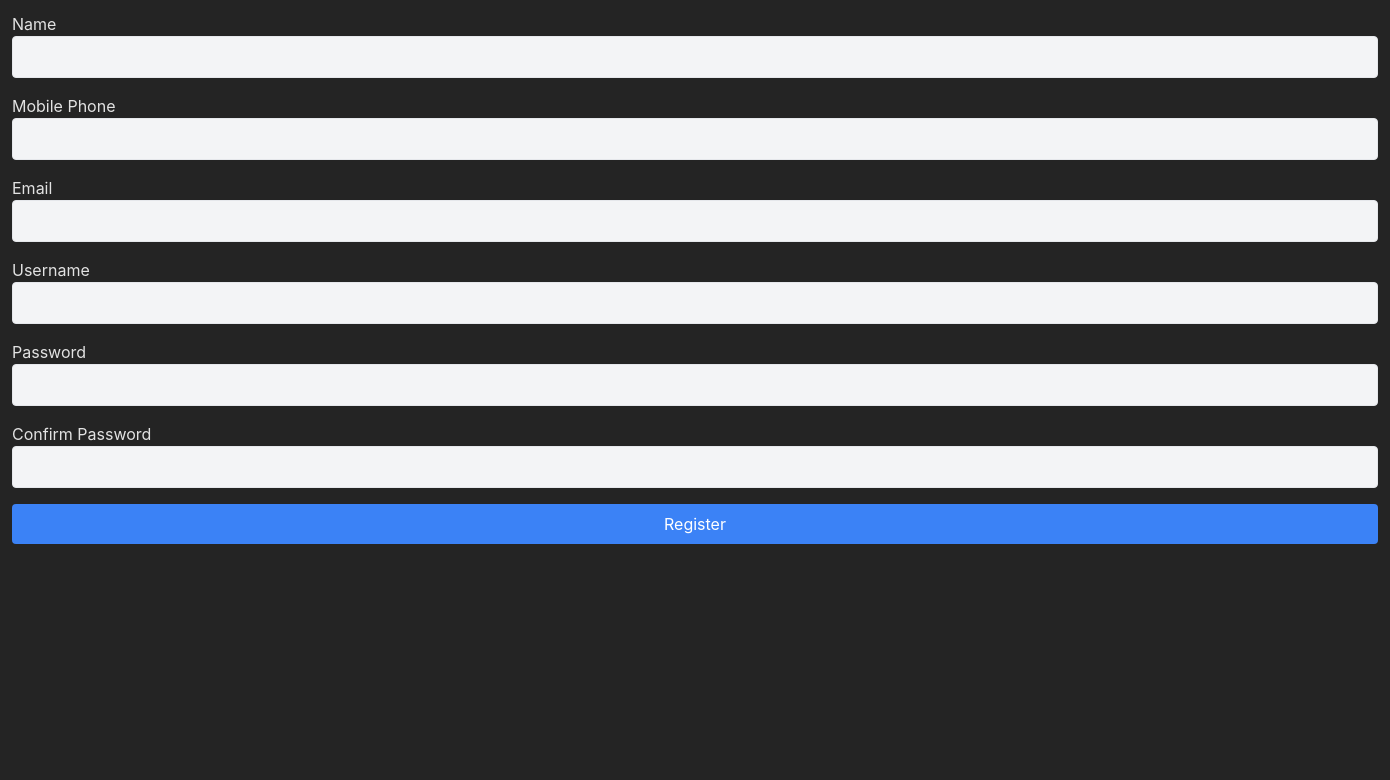
Test: RegisterForm › shows validation errors on empty input
The width and height of the screenshot is (1390, 780).
Click the button at (695, 524), box [12,504,1378,544]
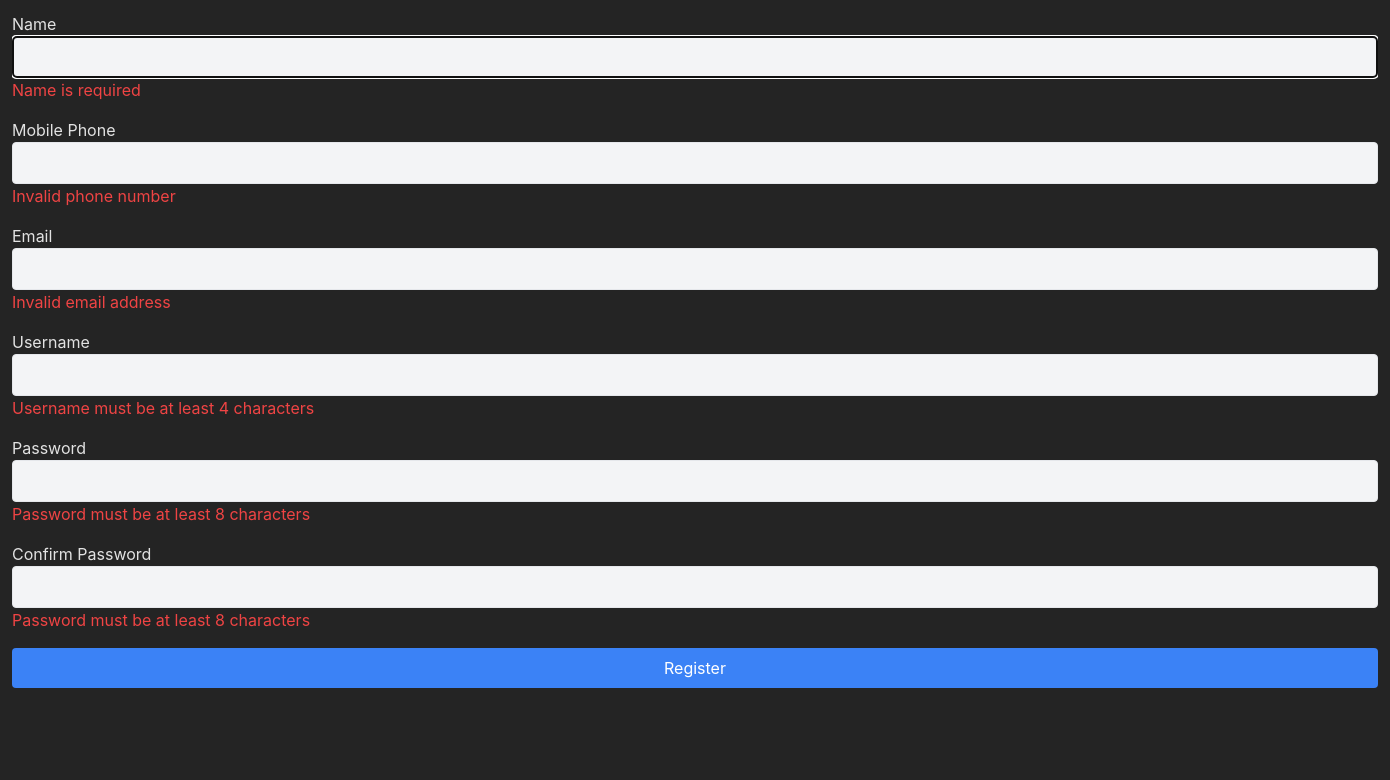
Expected: the text "Name is required" is shown, [12,80,141,100]
Expected: the text "Invalid phone number" is shown, [12,186,176,206]
Expected: the text "Invalid email address" is shown, [12,292,171,312]
